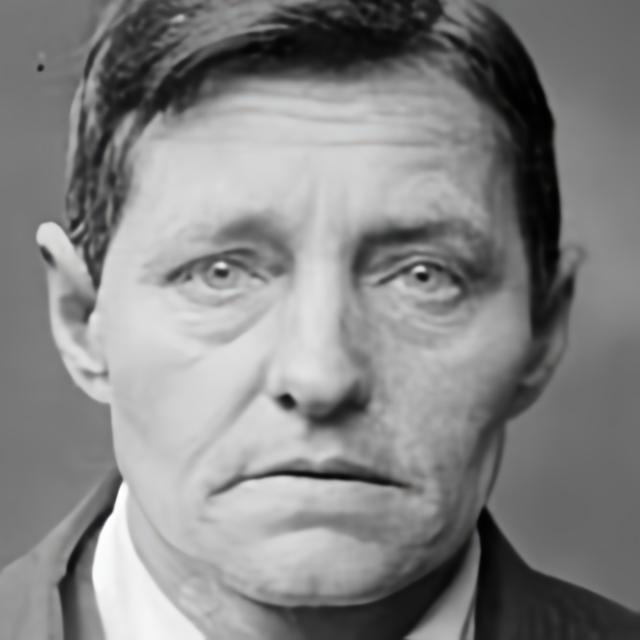sad: (109, 62, 526, 608)
